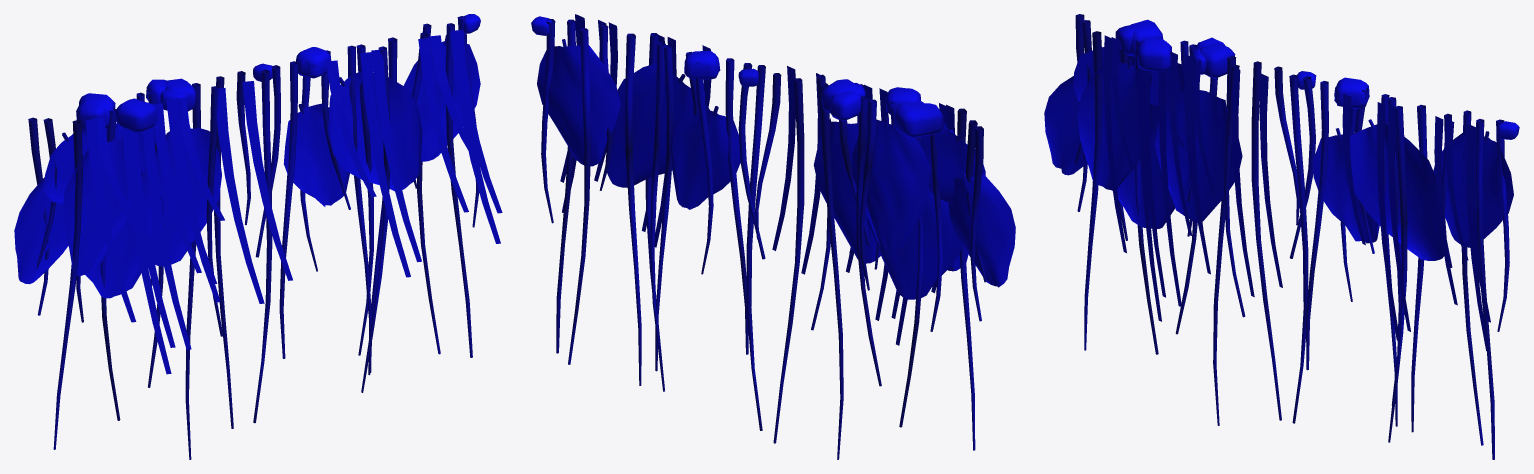
Rendered from coral_curtain.glb.
3 renders of one model, left to right at view 1: azimuth 30°, elevation 25°; view 2: azimuth 150°, elevation 25°; view 3: azimuth 330°, elevation 25°, orthographic.
Parts seen in each view (by area): view 1: coral_curtain; view 2: coral_curtain; view 3: coral_curtain.
Part boxes in pixels (x1=…): coral_curtain: x1=14, y1=14, x2=502, y2=459; coral_curtain: x1=531, y1=14, x2=1015, y2=459; coral_curtain: x1=1044, y1=14, x2=1519, y2=459.
Size of what is drawn, in the model's own units: 3.17 by 2.42 by 0.4485.
